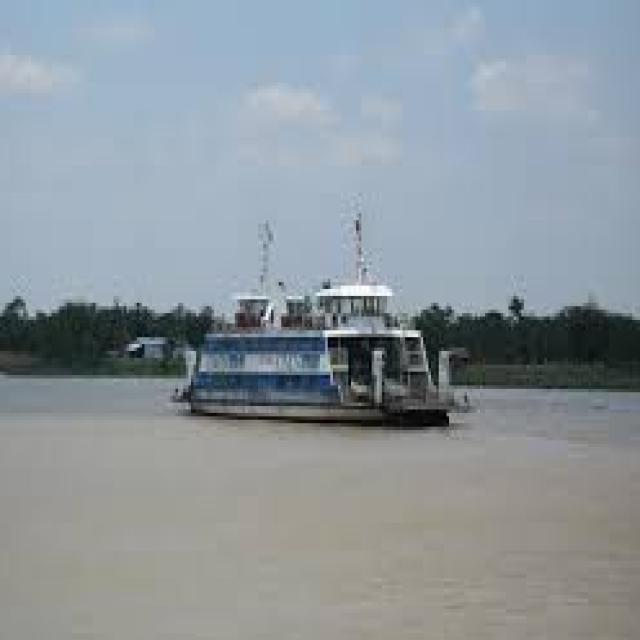passenger ship: (182, 281, 437, 422)
